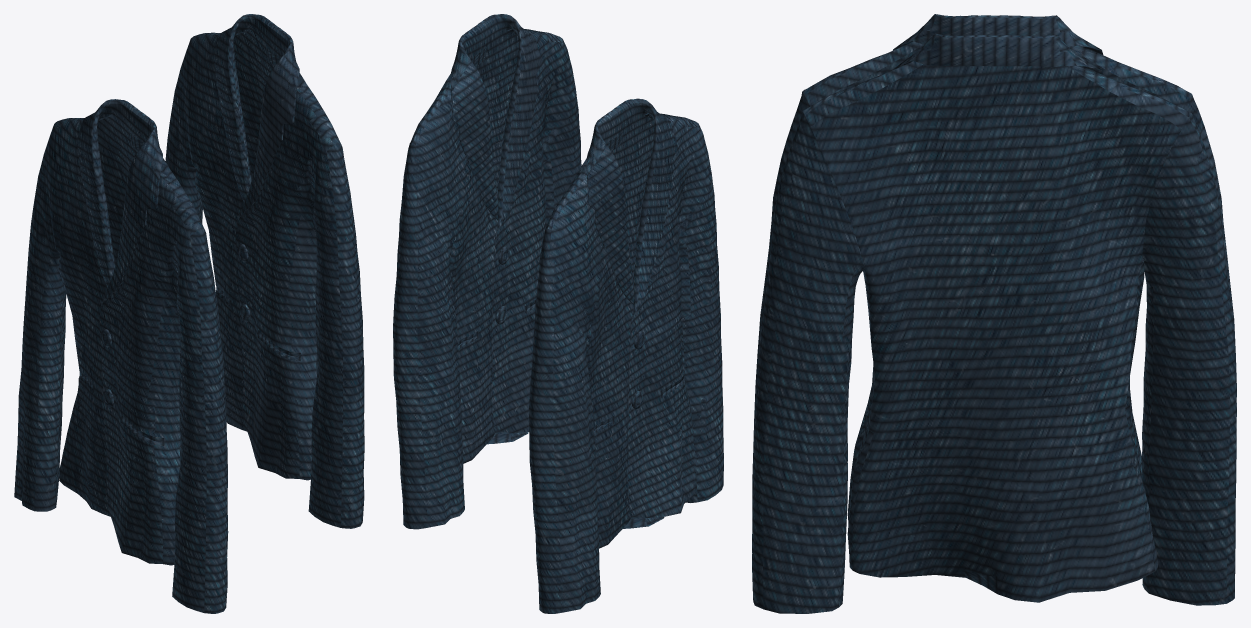
The model's file is yifu10_xizhuang_03.fbx.
3 renders of one model, left to right at view 1: azimuth 30°, elevation 25°; view 2: azimuth 150°, elevation 25°; view 3: azimuth 270°, elevation 25°, orthographic. The views are drawn at different scales.
Visible parts, largest first — view 1: yifu10_xizhuang_03; view 2: yifu10_xizhuang_03; view 3: yifu10_xizhuang_03.
Boxes of the visible parts, x1=… form: yifu10_xizhuang_03: x1=14, y1=14, x2=364, y2=613; yifu10_xizhuang_03: x1=393, y1=14, x2=723, y2=613; yifu10_xizhuang_03: x1=752, y1=14, x2=1236, y2=613.
Bounding box in the file's own units: 34.37 × 78.09 × 53.14.
